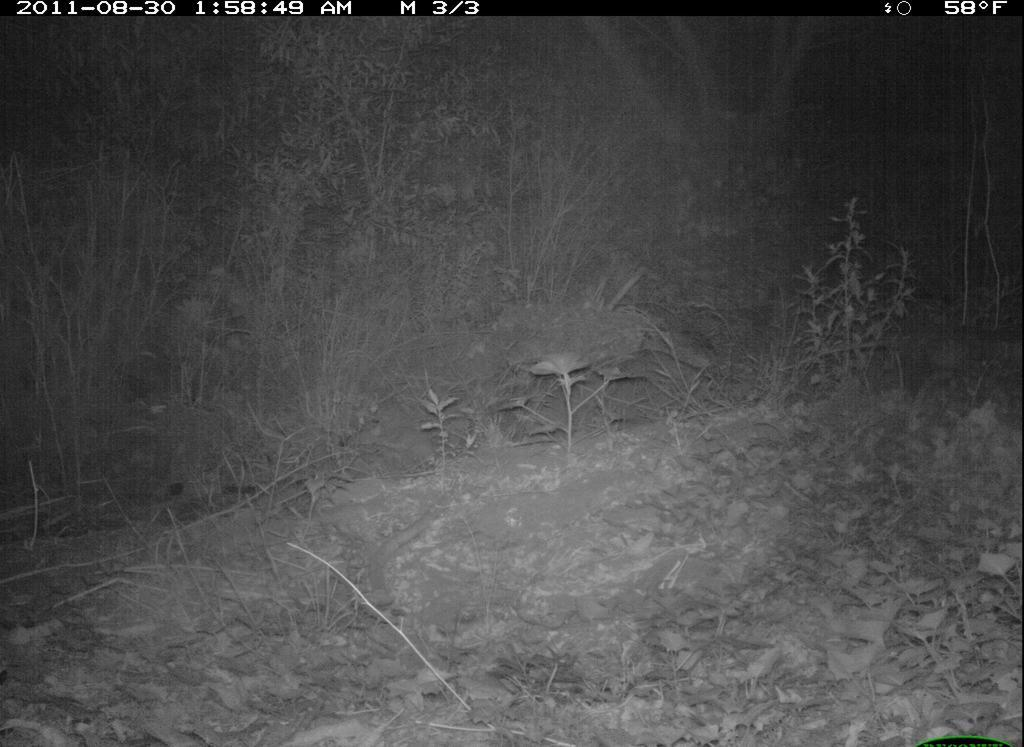opossum: (779, 310, 998, 393)
